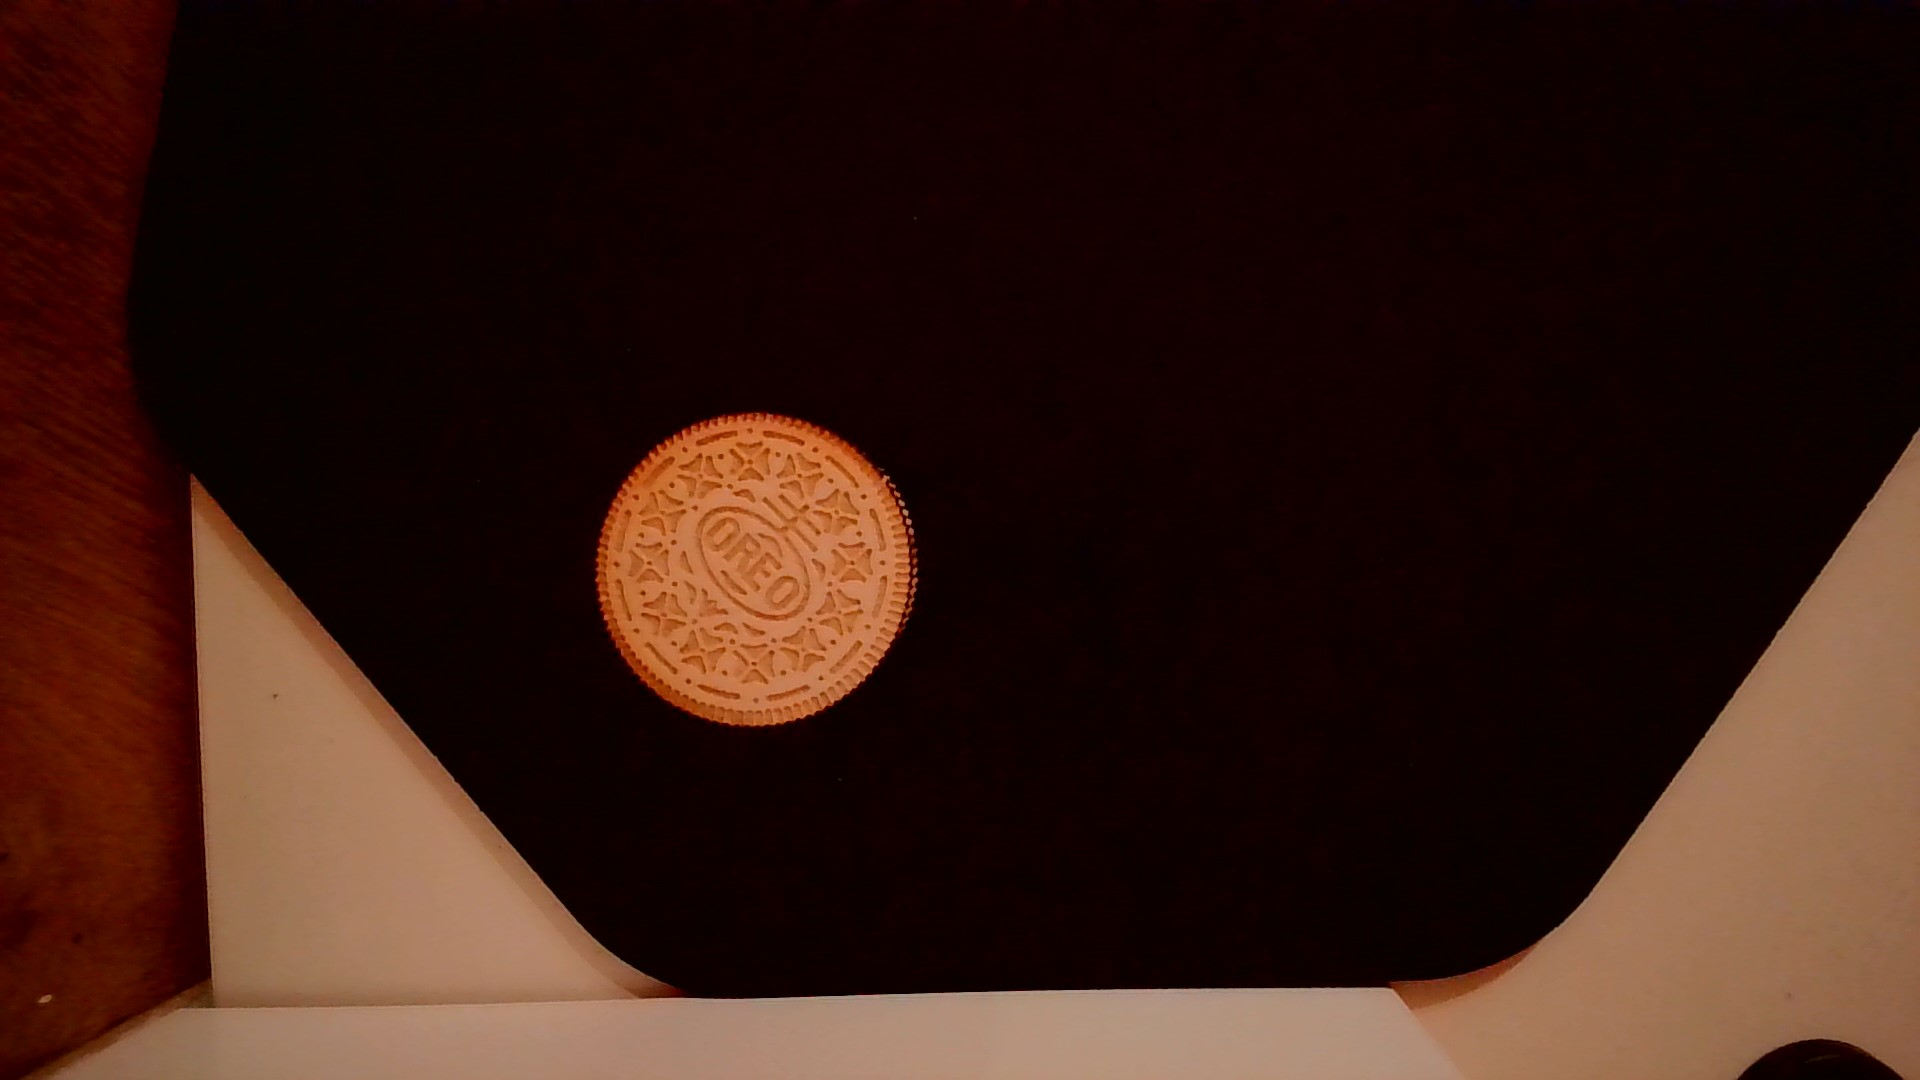Oréo: (582, 407, 924, 736)
